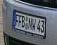B: (37, 19, 41, 33), (22, 15, 25, 28)
F: (19, 14, 22, 27), (16, 14, 19, 26)
